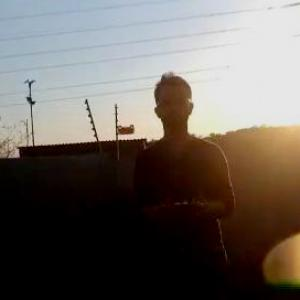follow: (125, 64, 239, 299)
